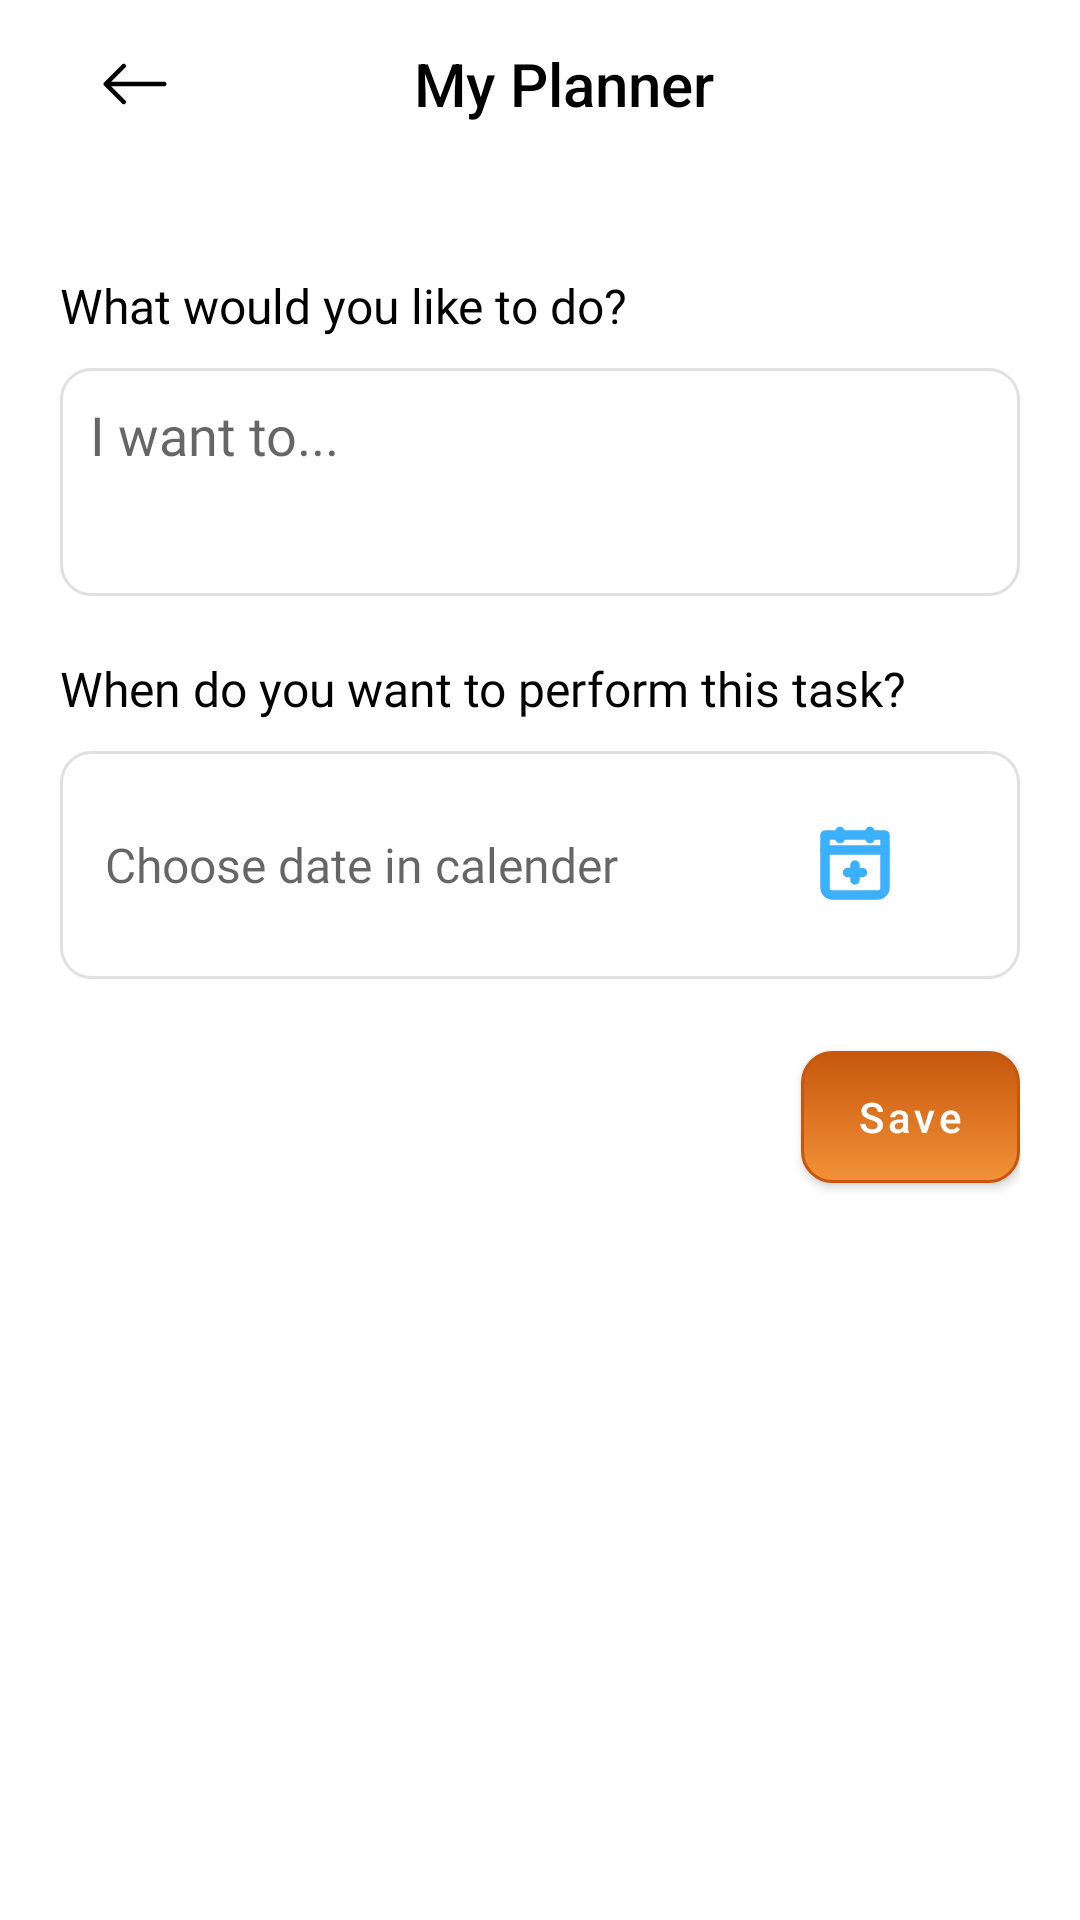

Named icons in this screenshot (1080*1920) and their centers, point (x, y):
back: point (135, 84)
